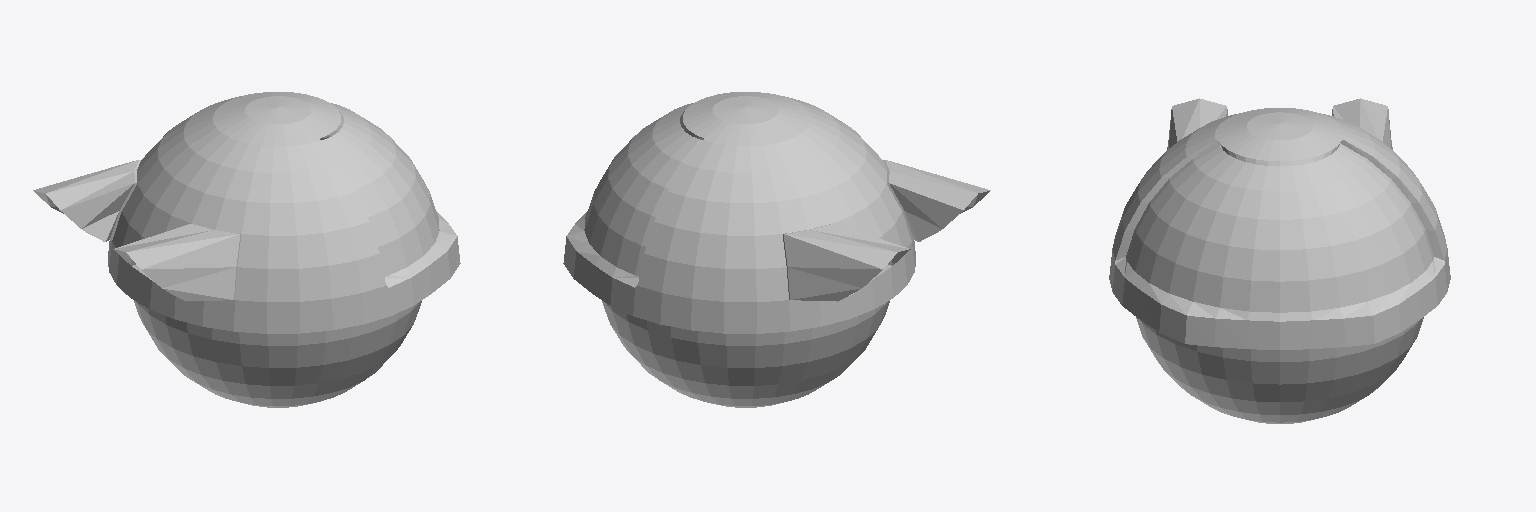
The model's file is car.obj.
The picture shows the model from 3 angles: view 1: azimuth 30°, elevation 25°; view 2: azimuth 150°, elevation 25°; view 3: azimuth 270°, elevation 25°; orthographic projection.
Visible parts, largest first — view 1: Sphere; view 2: Sphere; view 3: Sphere.
Boxes of the visible parts, <box> form: Sphere: <box>33,92,460,407</box>; Sphere: <box>563,92,990,407</box>; Sphere: <box>1109,98,1450,423</box>.
Size of the model in its own units: 6.67 by 5.37 by 5.8.